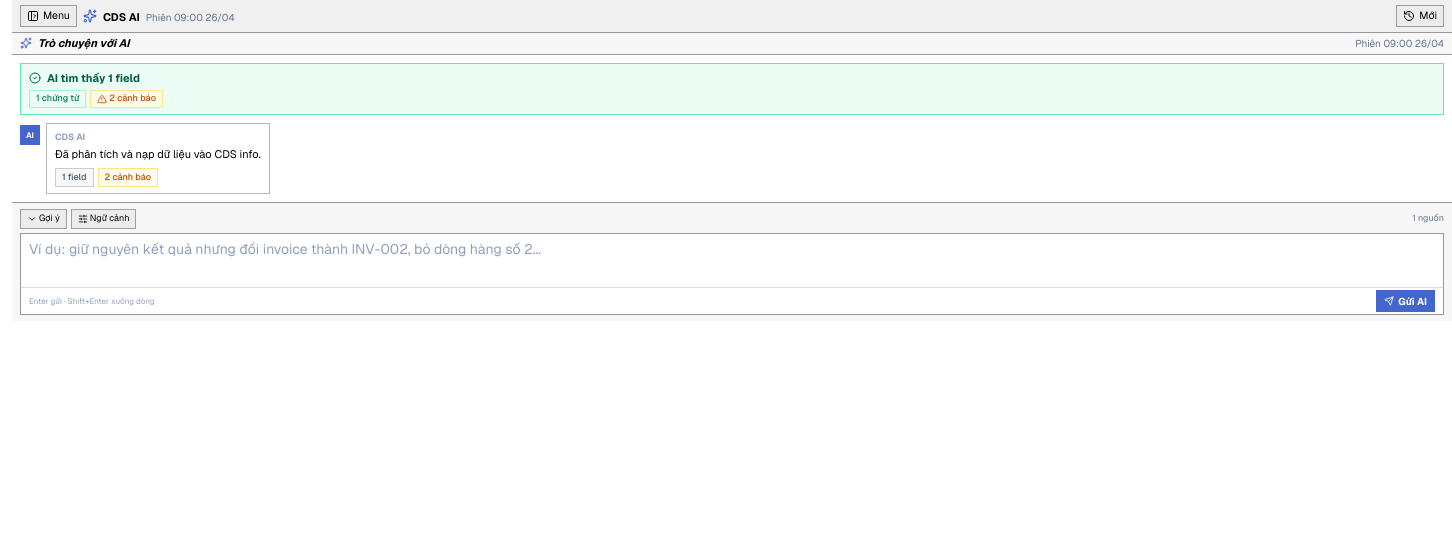
CdsAiDocumentPanel compact layout › renders compact controls and status summary without detailed result tables
Expected: the element with test id "cds-ai-compact-panel" is shown, top-left (12, 0), bottom-right (1451, 321)
Note: Sidebar starts hidden — open menu (mặc định: menu full, chat ẩn)
Click the button "Menu" at (48, 16), box top-left (20, 5), bottom-right (77, 27)
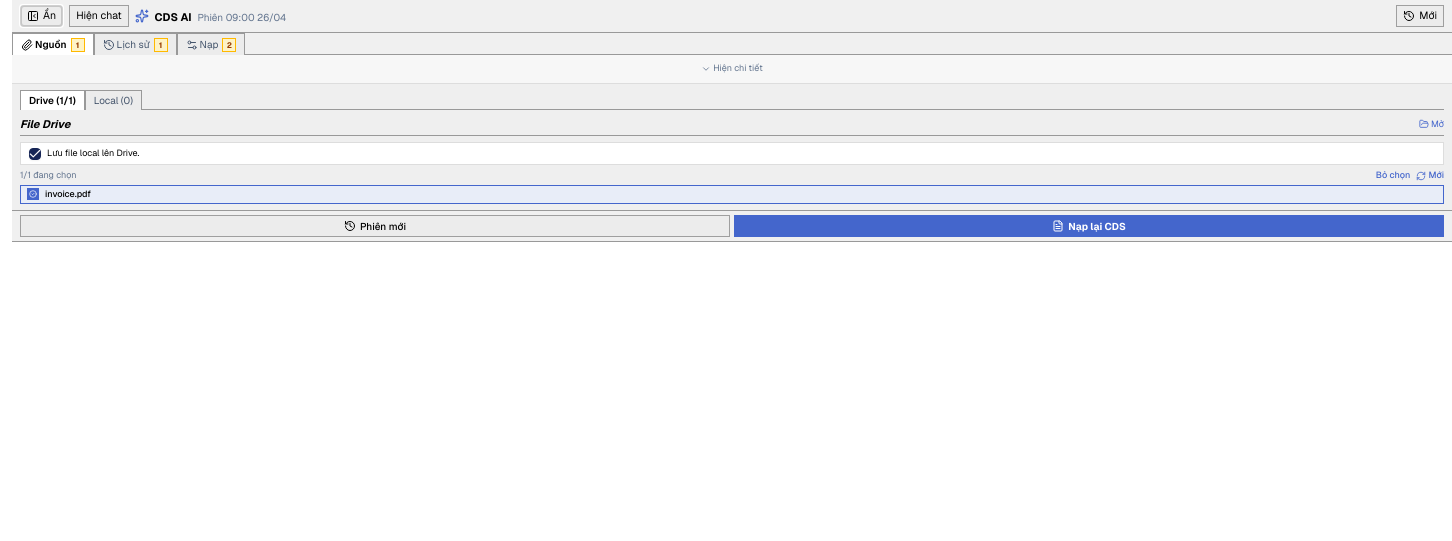
Note: Bật «Hiện chat» để thấy ô nhập và composer khi test split layout
Click the button with test id "cds-ai-toggle-chat-for-menu" at (99, 16), box top-left (69, 5), bottom-right (129, 27)
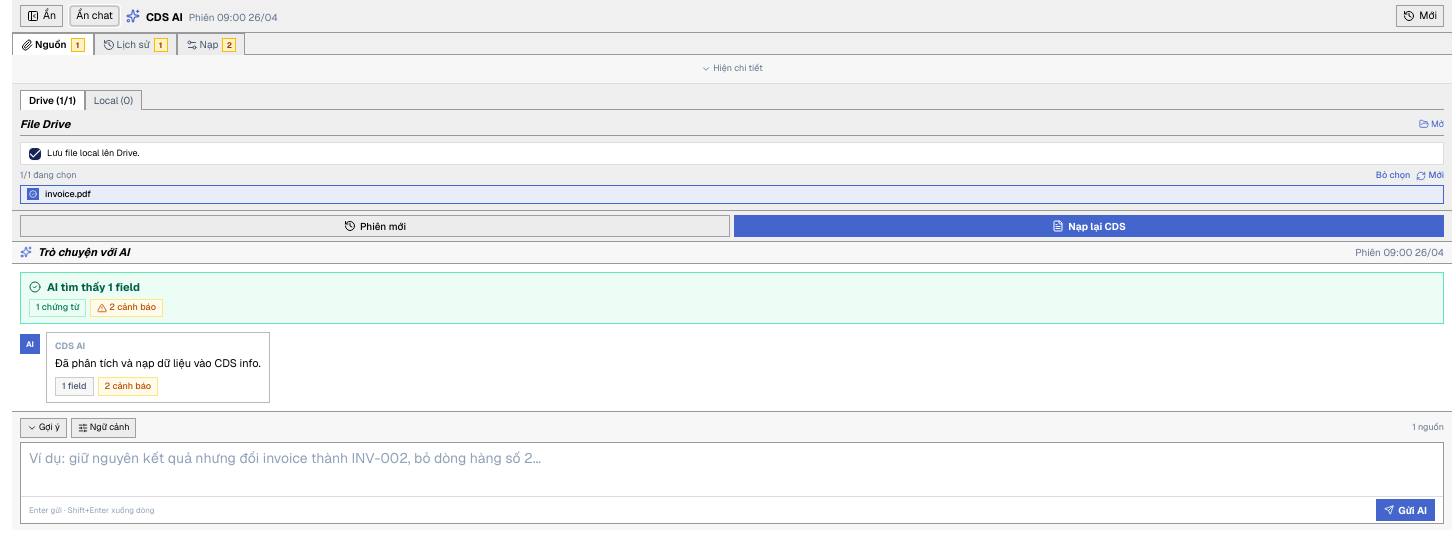
Now the text "File Drive" is shown, box top-left (20, 116), bottom-right (70, 132)
Now the element with test id "cds-ai-drive-file-list" is shown, box top-left (20, 184), bottom-right (1444, 204)
Now the text box is shown, box top-left (21, 443), bottom-right (1443, 496)
